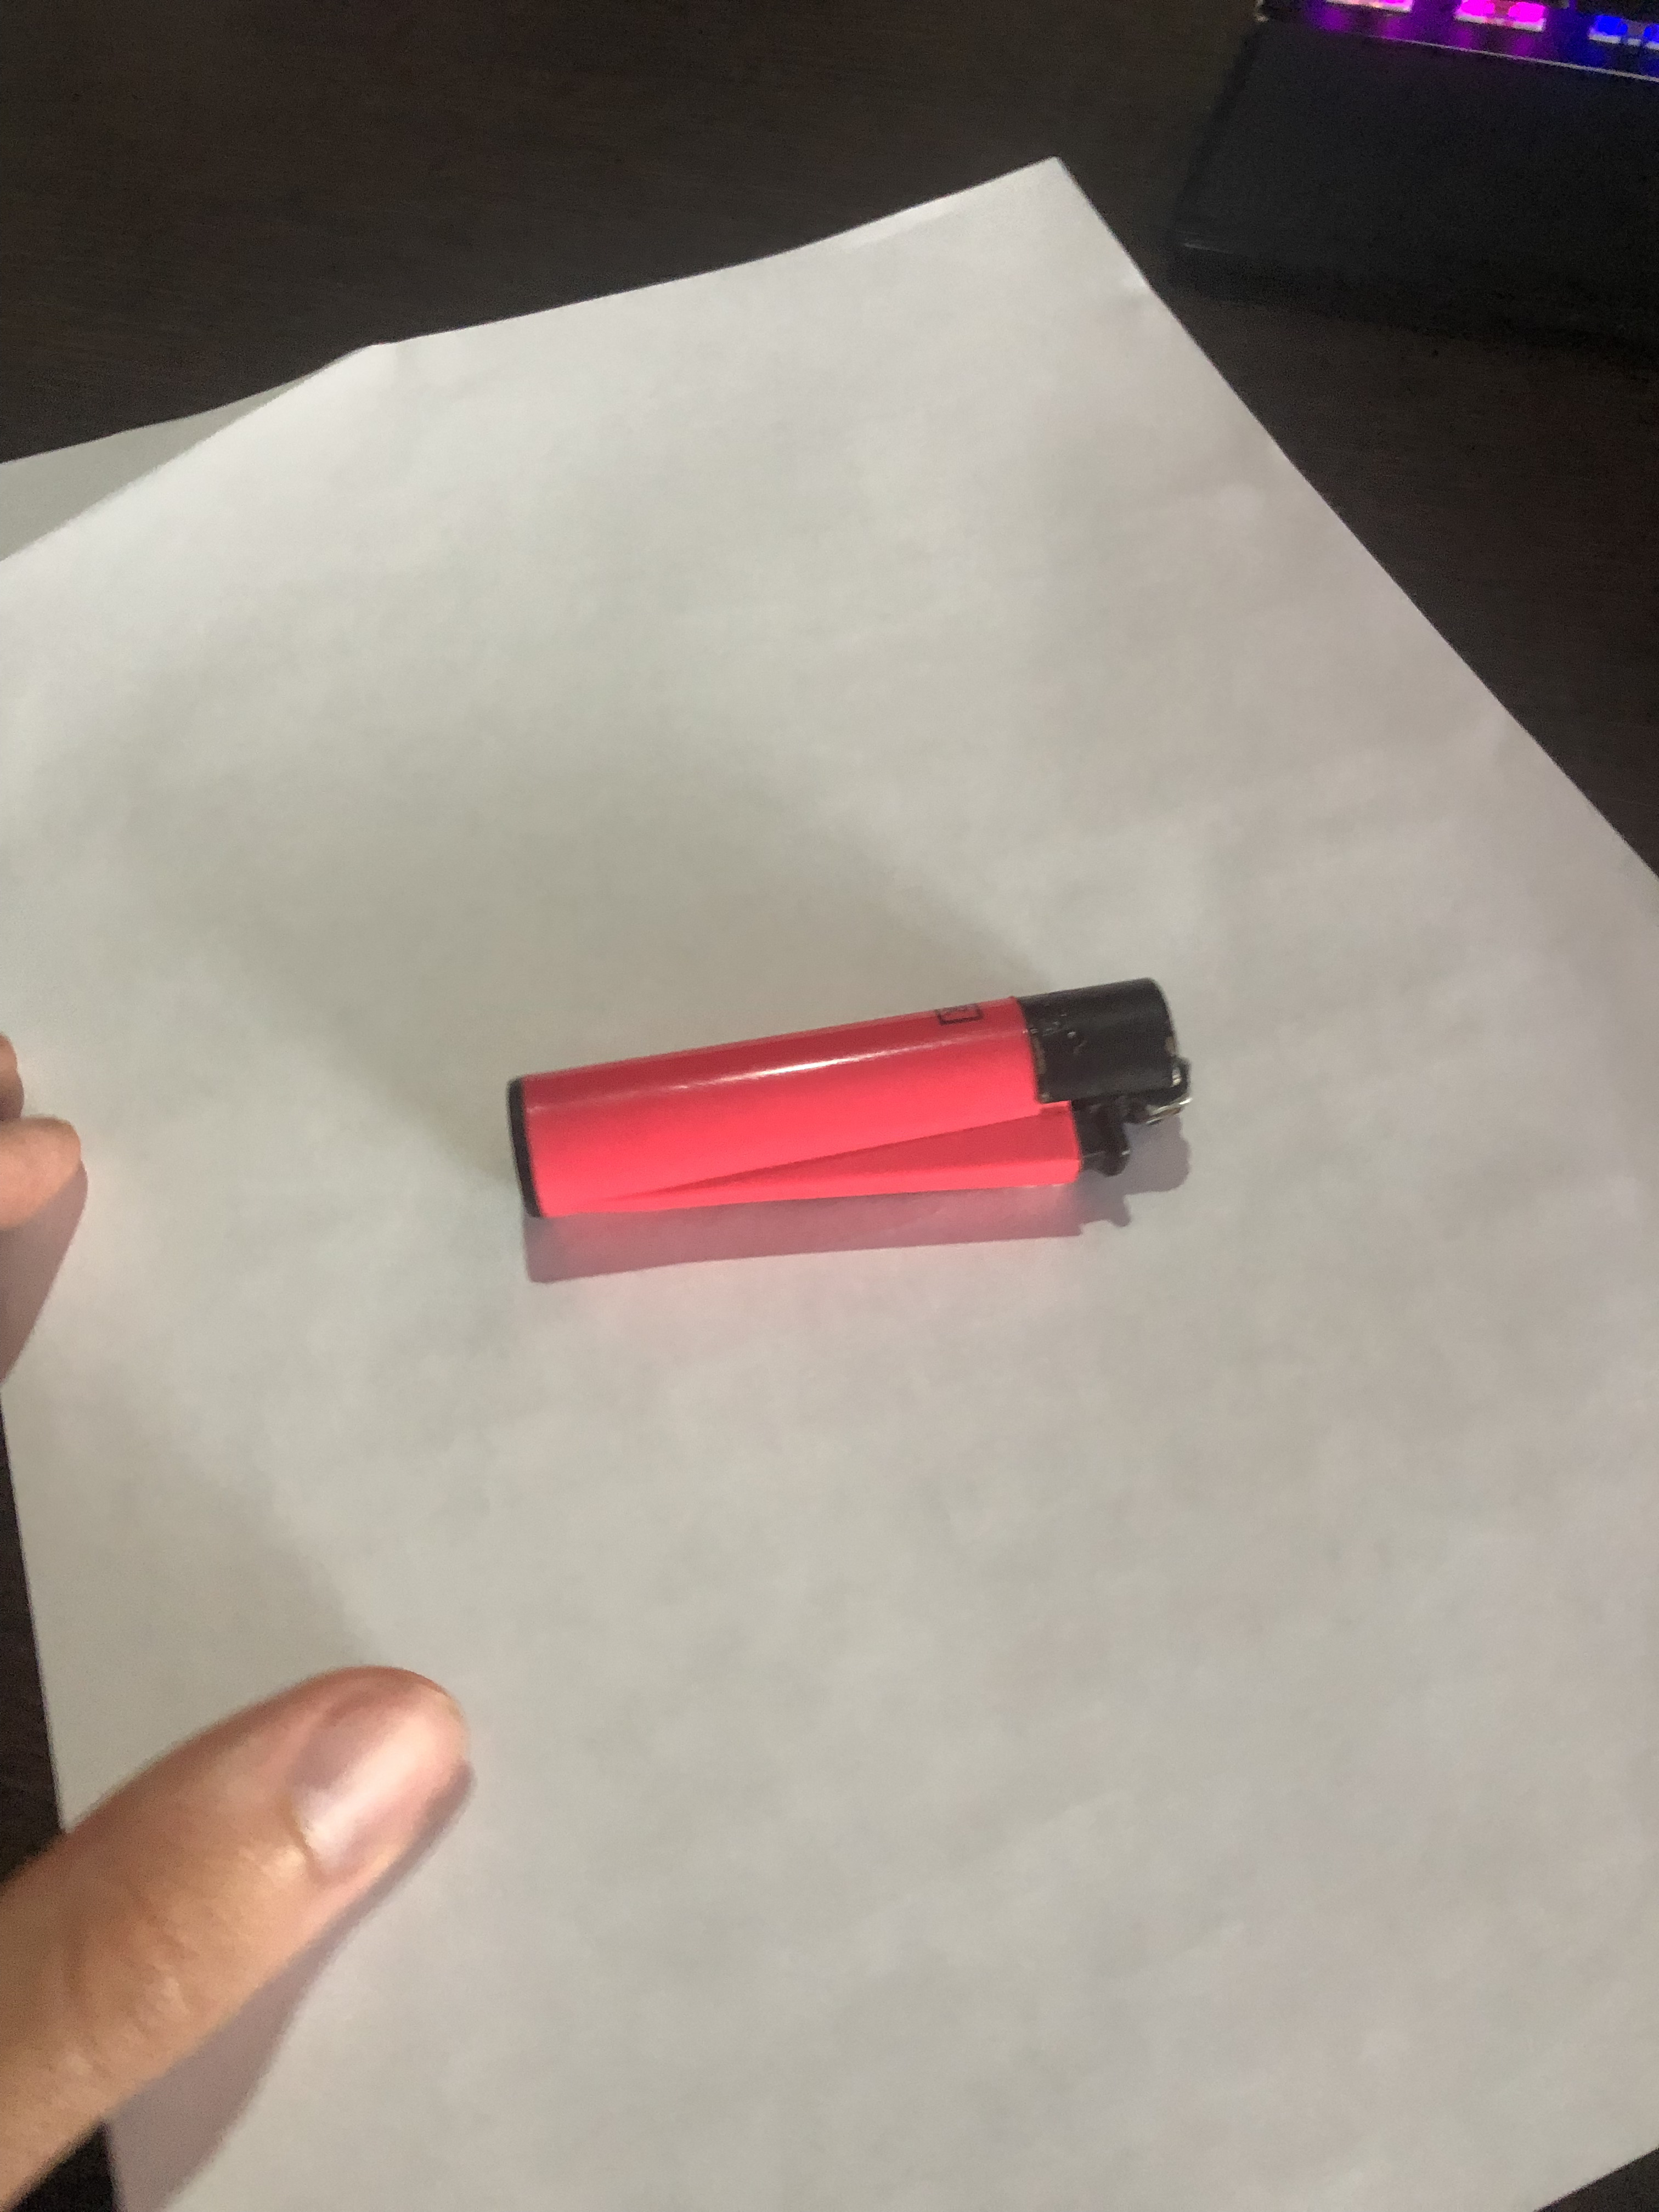Mechero: (498, 974, 1197, 1224)
